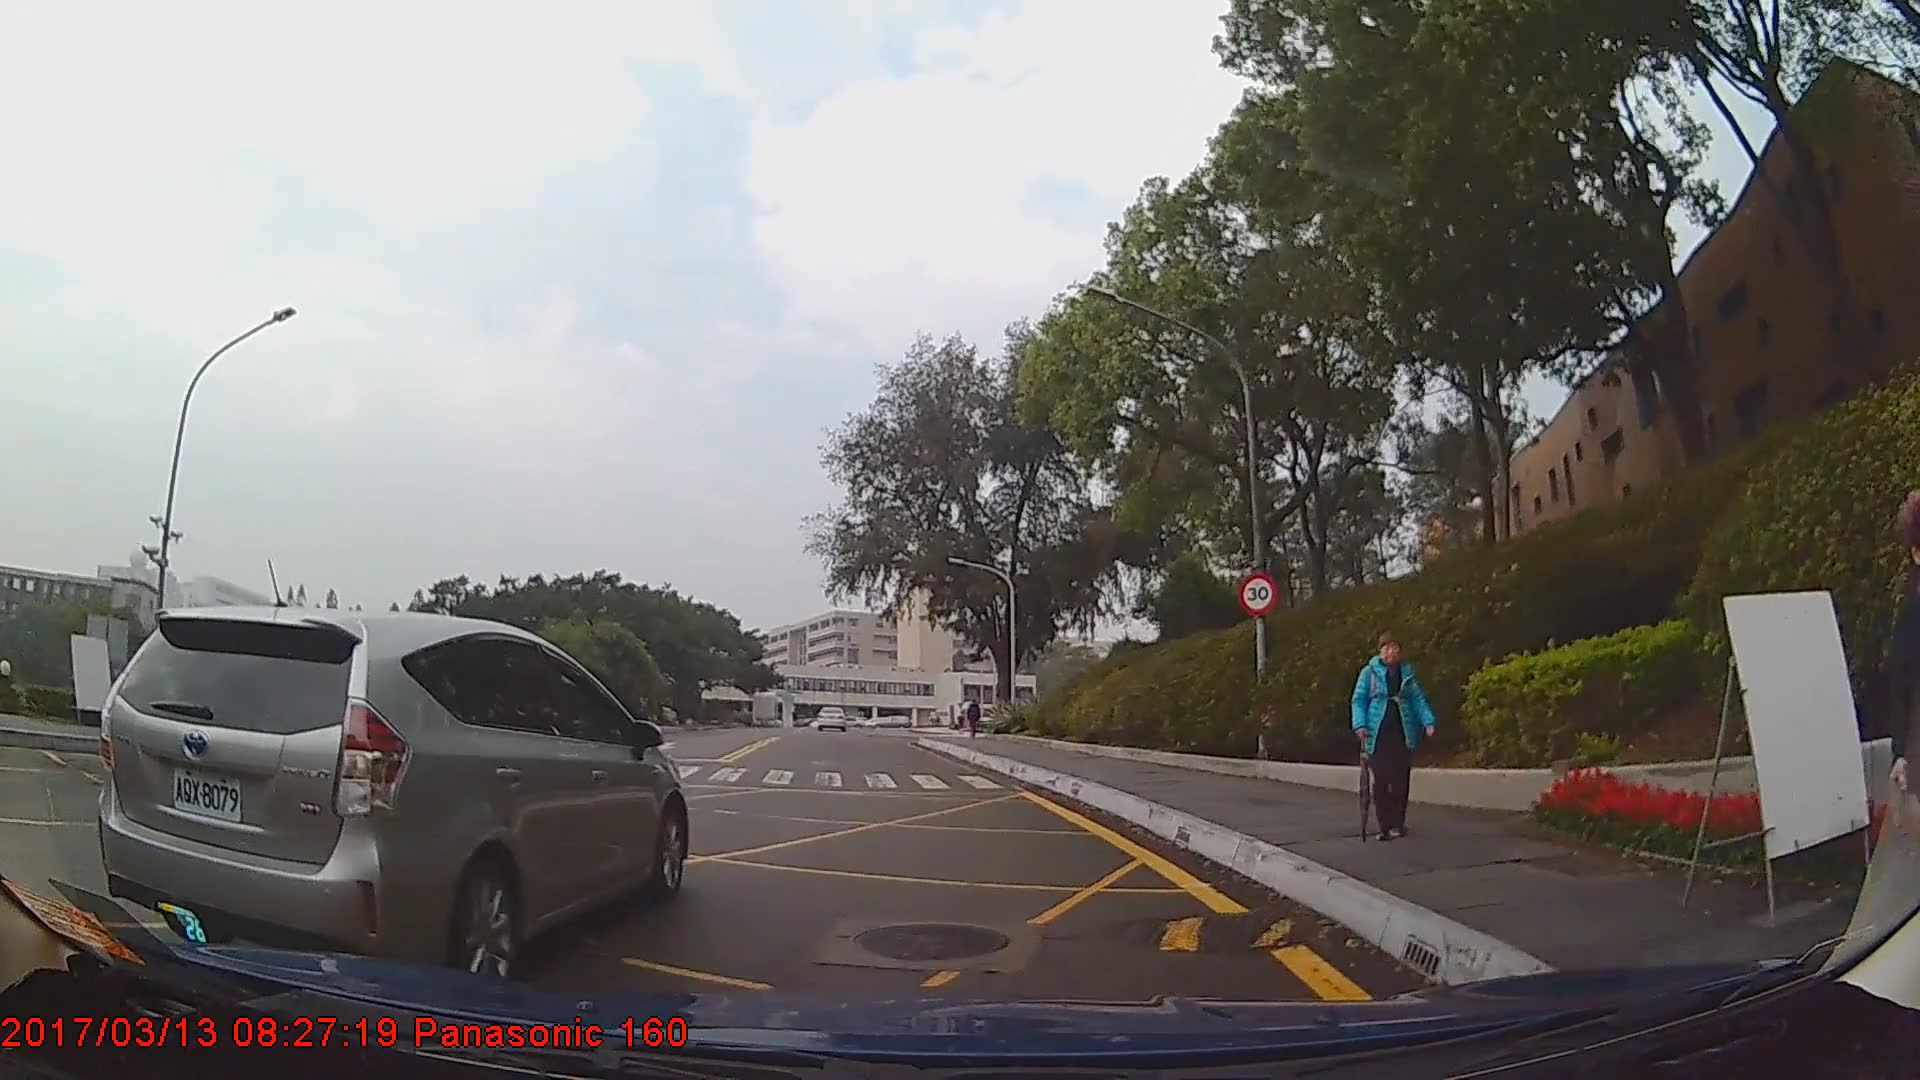pedestrian: (1337, 618, 1451, 859), (965, 699, 985, 740)
vehicle: (95, 609, 689, 984), (813, 702, 847, 729)
